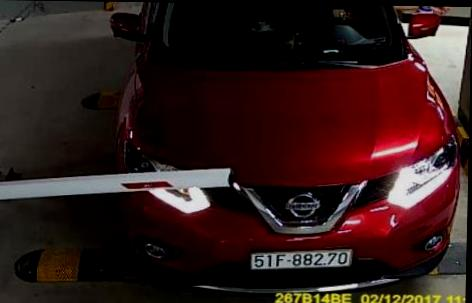License_Plate: (247, 243, 358, 275)
